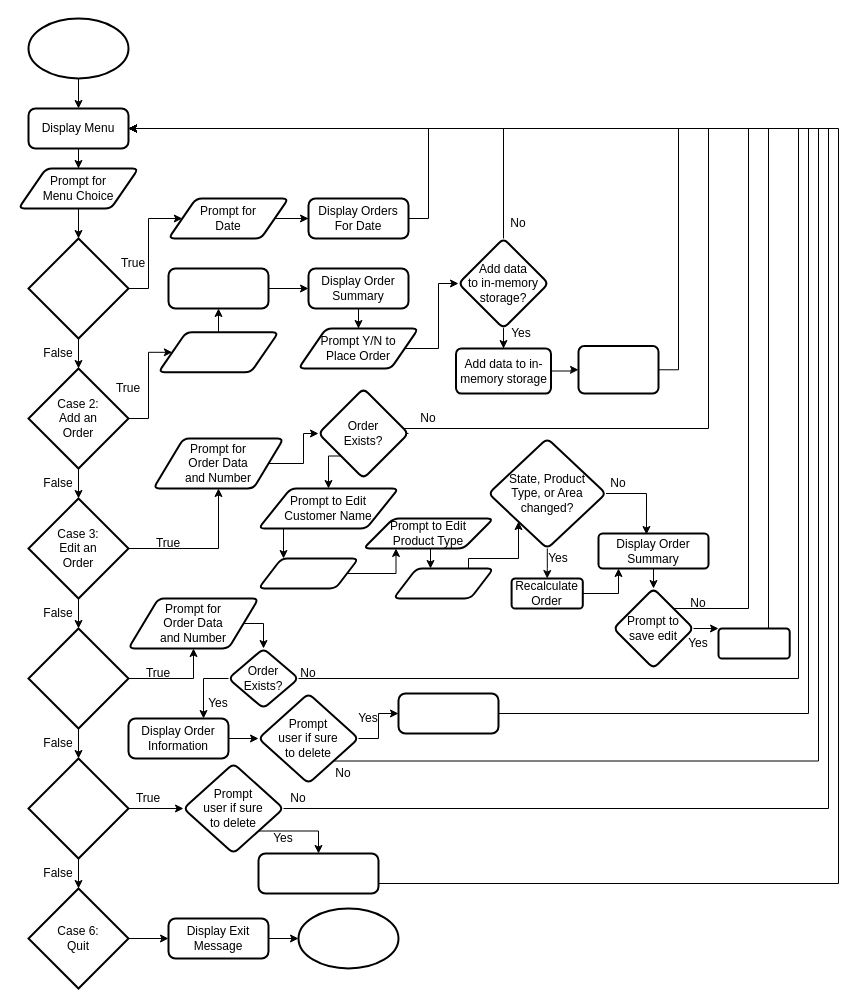
The diagram is 864 pixels wide and 1006 high, and some of its shapes have lost their labels. The centre of each missing label's shape, as x and y in pixels:
Calculate Remaining Data: the point at 218,288
Case 1: Display Orders: the point at 78,288
Case 4: Remove an Order: the point at 78,678
Case 5: Export All Data: the point at 78,808
END: the point at 348,938
Generate Order Number: the point at 618,369
Prompt for Order Data: the point at 218,352
Prompt to Edit Area: the point at 443,583
Prompt to Edit State: the point at 308,573
Remove order from list: the point at 448,713
Replace data in file: the point at 753,643
Save all active orders to DataExport.txt: the point at 318,873
START: the point at 78,48
